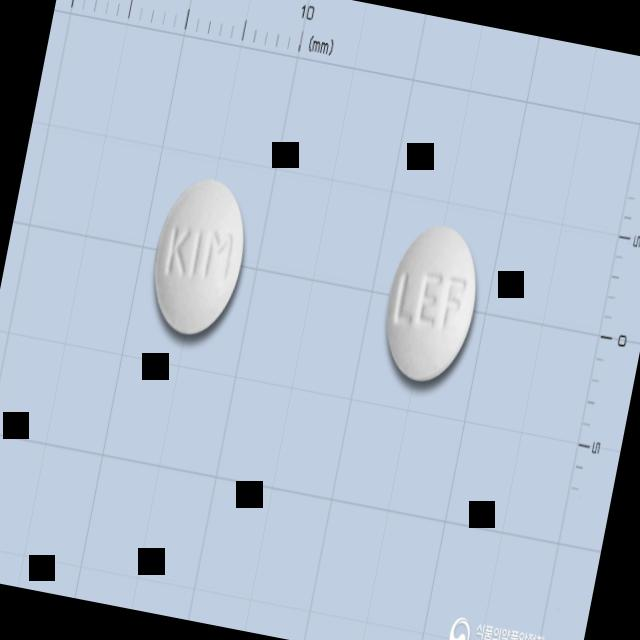Ciproxin -250mg: (374, 218, 491, 390), (142, 172, 257, 346)
